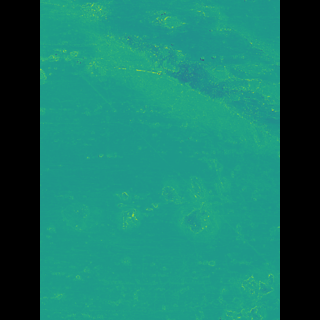Loch: (72, 0, 248, 143), (125, 181, 201, 233), (84, 194, 106, 234)
